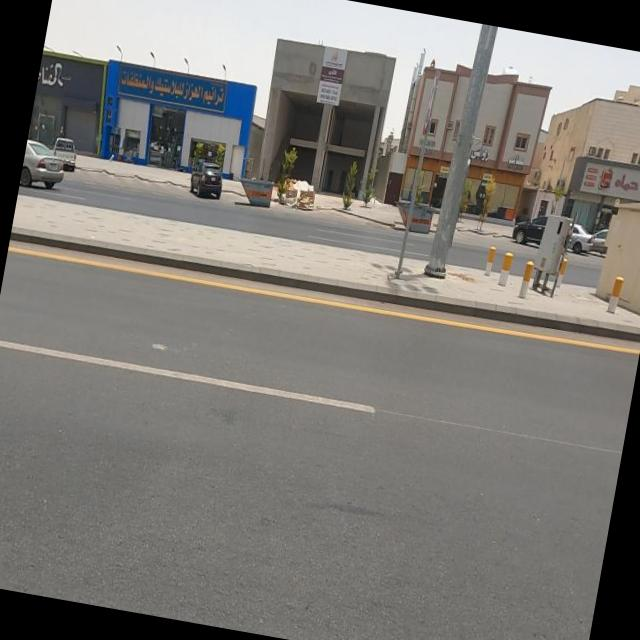debris: (256, 138, 347, 259)
